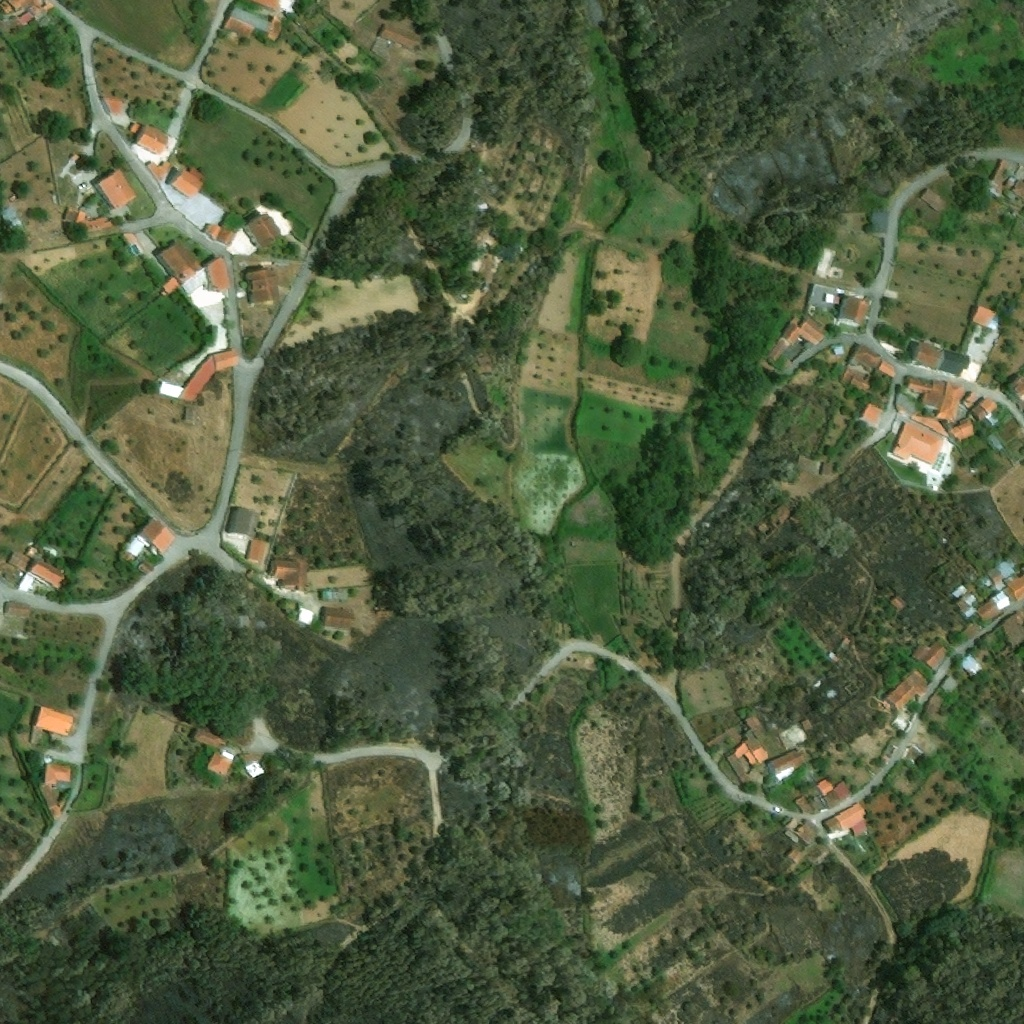0 no-damage: (159, 347, 239, 402), (157, 240, 230, 296), (768, 317, 828, 362), (220, 4, 285, 43), (120, 516, 175, 562), (897, 393, 951, 438), (907, 378, 963, 421), (39, 763, 73, 821), (883, 669, 929, 711), (727, 738, 768, 785), (893, 423, 941, 463), (17, 556, 70, 592), (850, 341, 896, 378), (95, 169, 136, 210), (823, 803, 871, 838), (983, 550, 1023, 590), (242, 211, 283, 249), (30, 704, 75, 737), (977, 586, 1016, 623), (984, 159, 1020, 197), (911, 639, 951, 673), (128, 122, 168, 154), (767, 748, 805, 781), (245, 267, 278, 304), (63, 205, 112, 229), (816, 779, 853, 809), (171, 166, 204, 199), (228, 506, 261, 539), (837, 296, 870, 329), (815, 248, 846, 282), (269, 560, 304, 589), (379, 25, 418, 51), (839, 363, 871, 393), (998, 610, 1023, 647), (951, 583, 977, 618), (206, 749, 236, 779), (971, 397, 1000, 428), (912, 341, 942, 370), (705, 726, 743, 748), (1, 206, 26, 237), (920, 187, 947, 215), (204, 223, 236, 246), (939, 351, 969, 375), (193, 727, 227, 748), (239, 752, 265, 779), (323, 606, 353, 629), (794, 819, 820, 845), (146, 160, 172, 184), (862, 402, 886, 426), (971, 305, 995, 329), (8, 550, 34, 572), (793, 794, 822, 813), (925, 693, 947, 718), (948, 419, 975, 439), (961, 652, 983, 676), (1004, 574, 1023, 601), (100, 97, 123, 117), (296, 605, 315, 626), (939, 675, 960, 694), (4, 601, 32, 615), (987, 431, 1005, 451), (318, 589, 348, 601), (962, 622, 982, 639), (872, 213, 887, 235), (961, 392, 978, 409), (889, 596, 907, 610), (788, 848, 803, 863), (26, 545, 41, 559), (138, 561, 153, 575), (184, 407, 198, 421), (778, 358, 793, 370), (1002, 645, 1017, 657), (820, 462, 833, 475), (833, 346, 844, 355), (802, 719, 811, 730)
2 major-damage: (828, 637, 851, 662)
3 destroyed: (756, 504, 790, 537)
4 un-classified: (251, 0, 298, 13), (745, 715, 767, 740), (1013, 376, 1023, 401), (1011, 180, 1023, 198)
